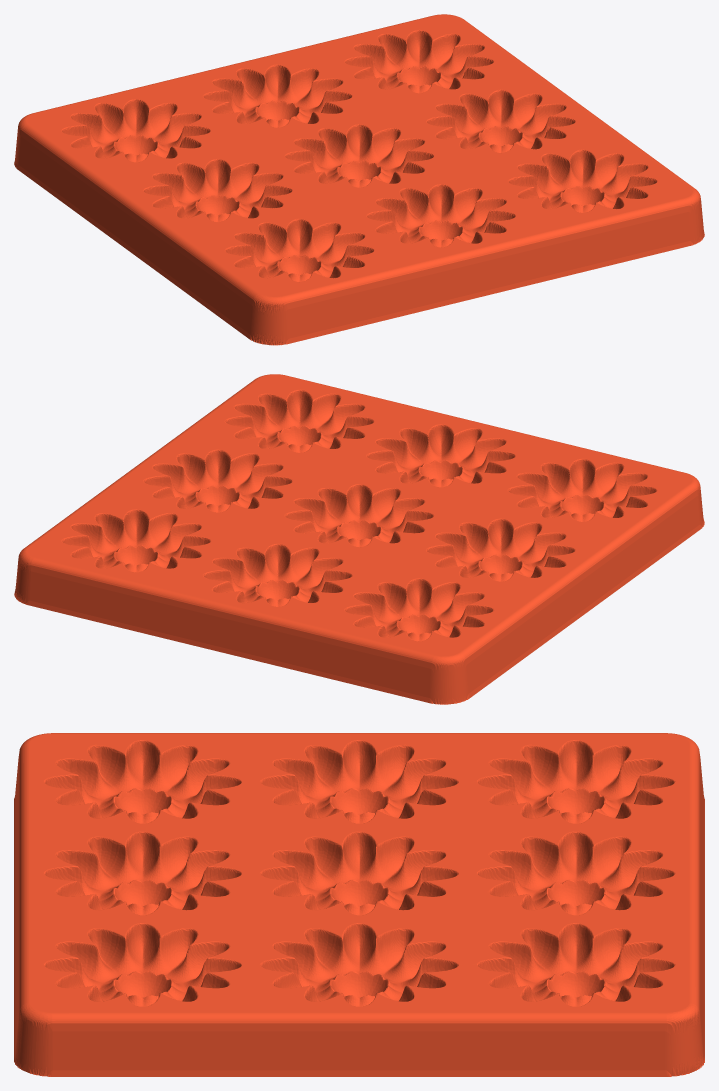
The model's file is mold.glb.
3 renders of one model, top to bottom at view 1: azimuth 30°, elevation 25°; view 2: azimuth 150°, elevation 25°; view 3: azimuth 270°, elevation 25°, orthographic. The views are drawn at different scales.
Visible parts, largest first — view 1: geometry_0; view 2: geometry_0; view 3: geometry_0.
Boxes of the visible parts, box(x1,y1,x2,y2) form: geometry_0: box(14, 14, 704, 345); geometry_0: box(14, 374, 704, 704); geometry_0: box(14, 733, 704, 1076).
Bounding box in the file's own units: 0.1579 × 0.0145 × 0.1579.
